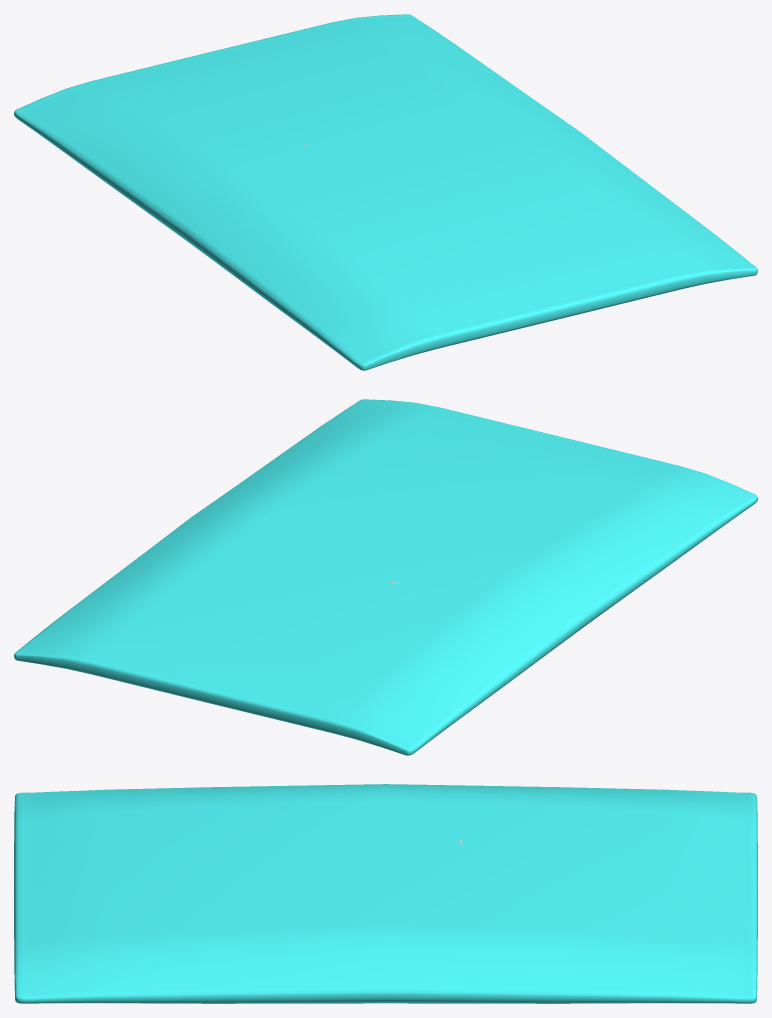
File: GoiDungCuVoKhuan.fbx
3 views of the same model, one above another, from view 1: azimuth 30°, elevation 25°; view 2: azimuth 150°, elevation 25°; view 3: azimuth 270°, elevation 25° (orthographic). The views are drawn at different scales.
Visible parts, largest first — view 1: tui; view 2: tui; view 3: tui.
Boxes of the visible parts, x1=… form: tui: x1=14, y1=14, x2=757, y2=370; tui: x1=14, y1=399, x2=757, y2=755; tui: x1=14, y1=784, x2=757, y2=1003.
Bounding box in the file's own units: 12.14 × 1.15 × 18.47.
Materials: 4 (4 with a texture image).
